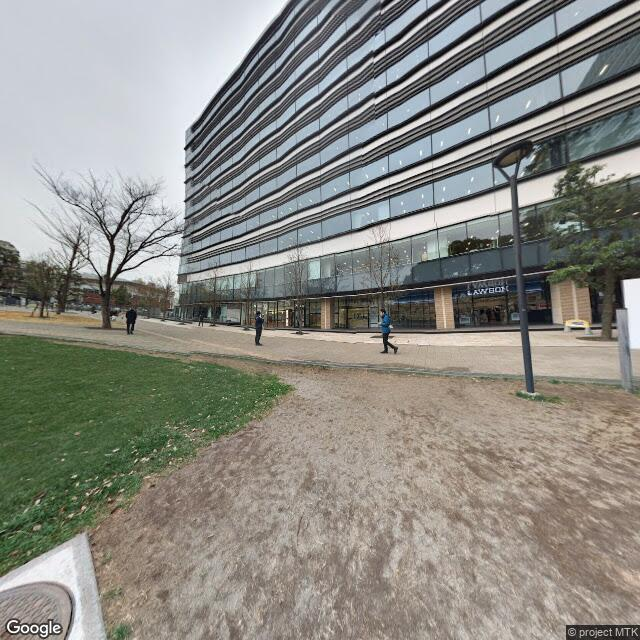lawson: (463, 281, 519, 297)
